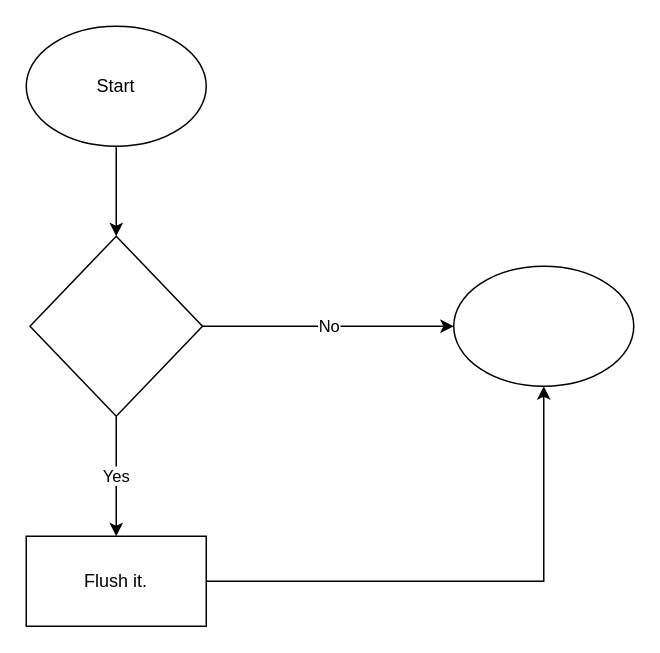
Some shapes in this 660 by 653 pixel diagram are drawn without their labels. Here are the shapes that lost their labels. From the top down, the centre of each, then its label:
point (115, 325): The last character of the string is a newline character.
point (543, 325): End
